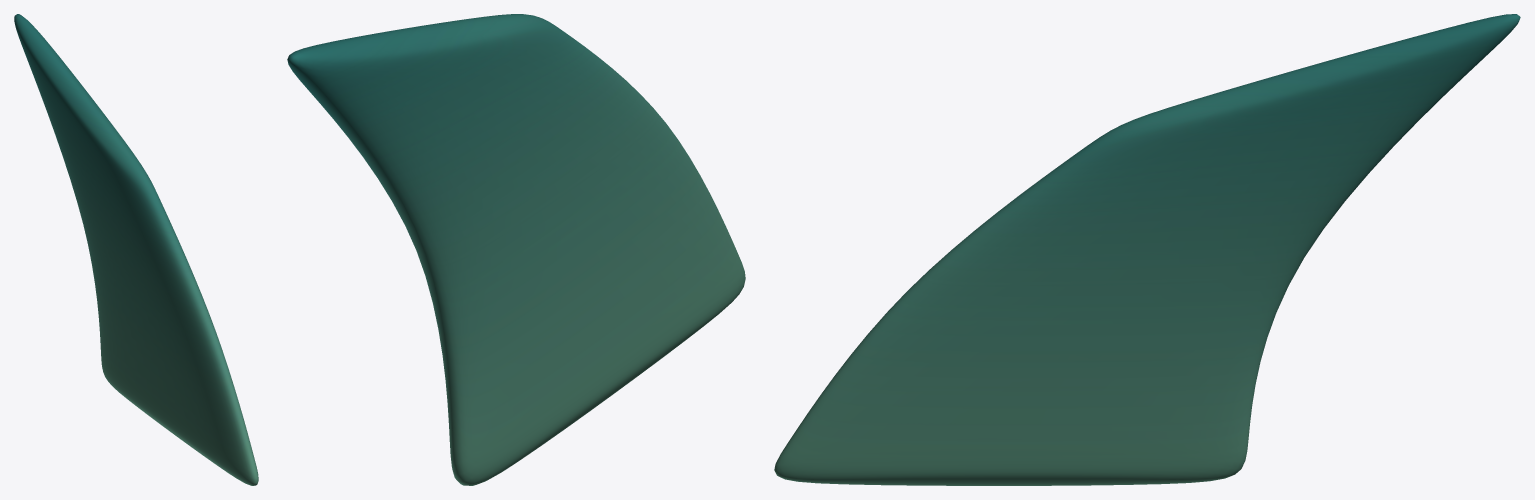
File: Shark.fbx
3 renders of one model, left to right at view 1: azimuth 30°, elevation 25°; view 2: azimuth 150°, elevation 25°; view 3: azimuth 270°, elevation 25°, orthographic. The views are drawn at different scales.
Visible parts, largest first — view 1: Shark; view 2: Shark; view 3: Shark.
Part boxes in pixels (x1,y1,x2,y2): Shark: (14,14,258,485); Shark: (287,14,745,485); Shark: (774,14,1520,485).
Size of the model in its own units: 26.42 by 311 by 448.
